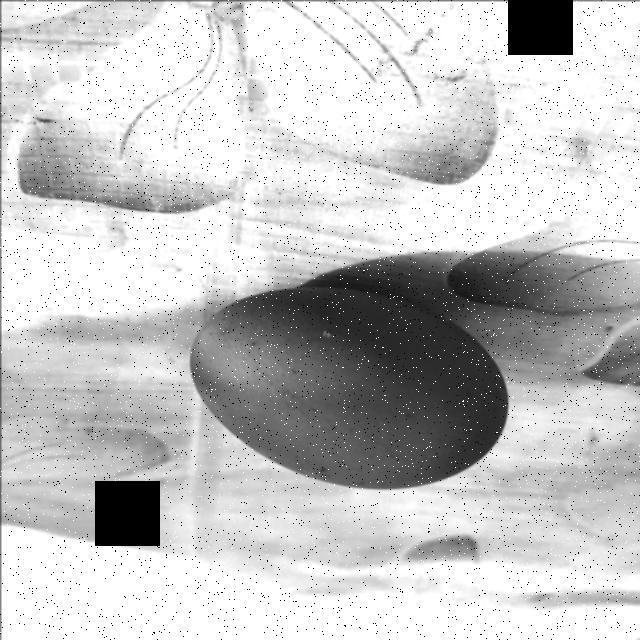egg: (185, 278, 515, 498)
